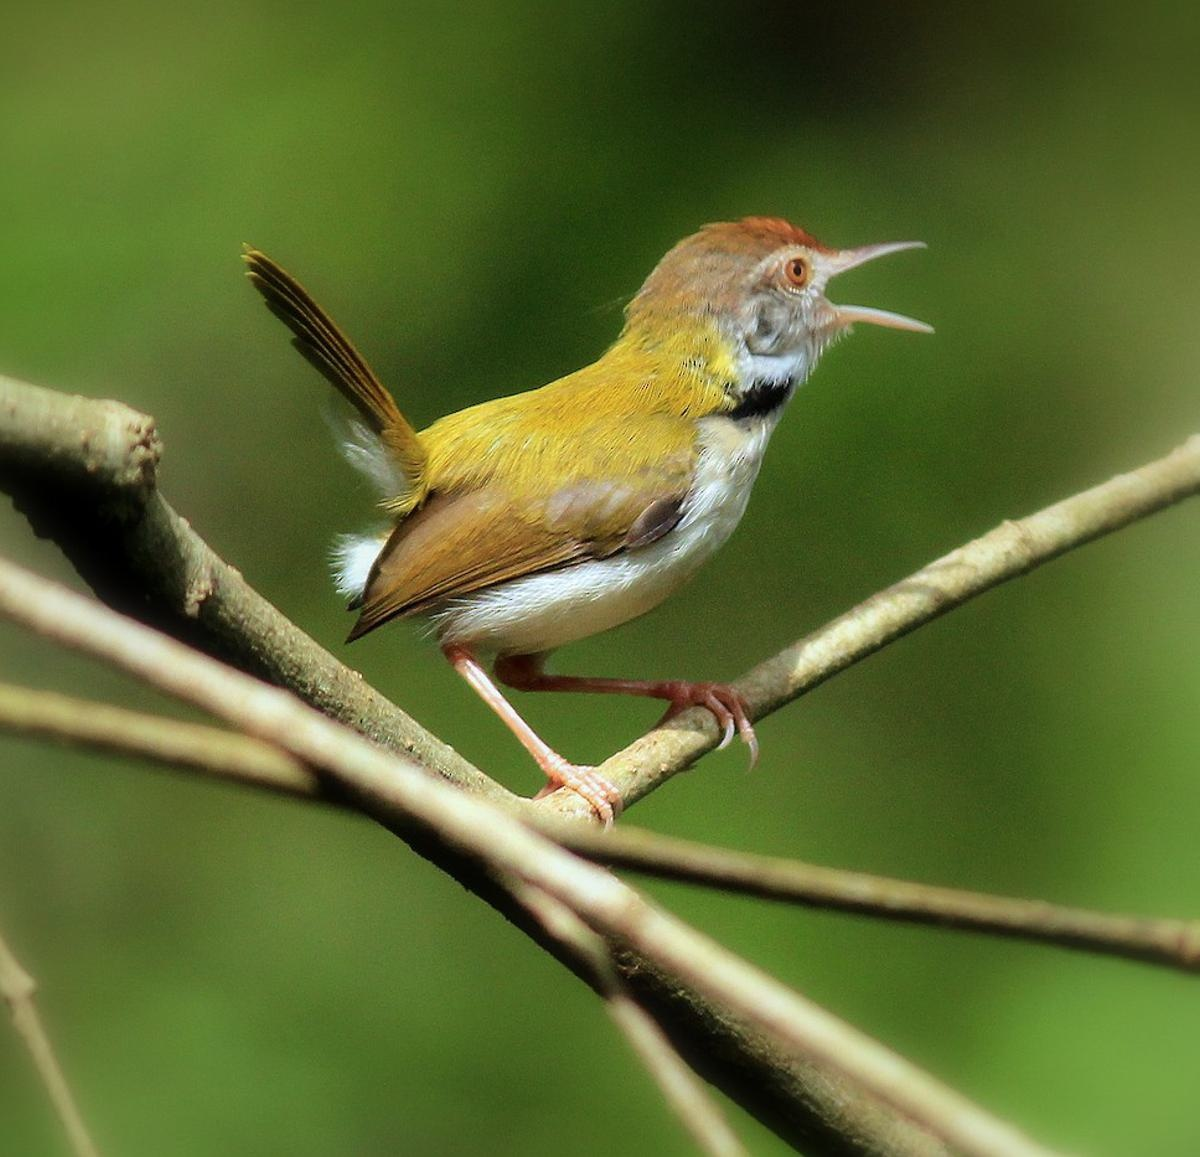tailorbird: (275, 163, 947, 682)
